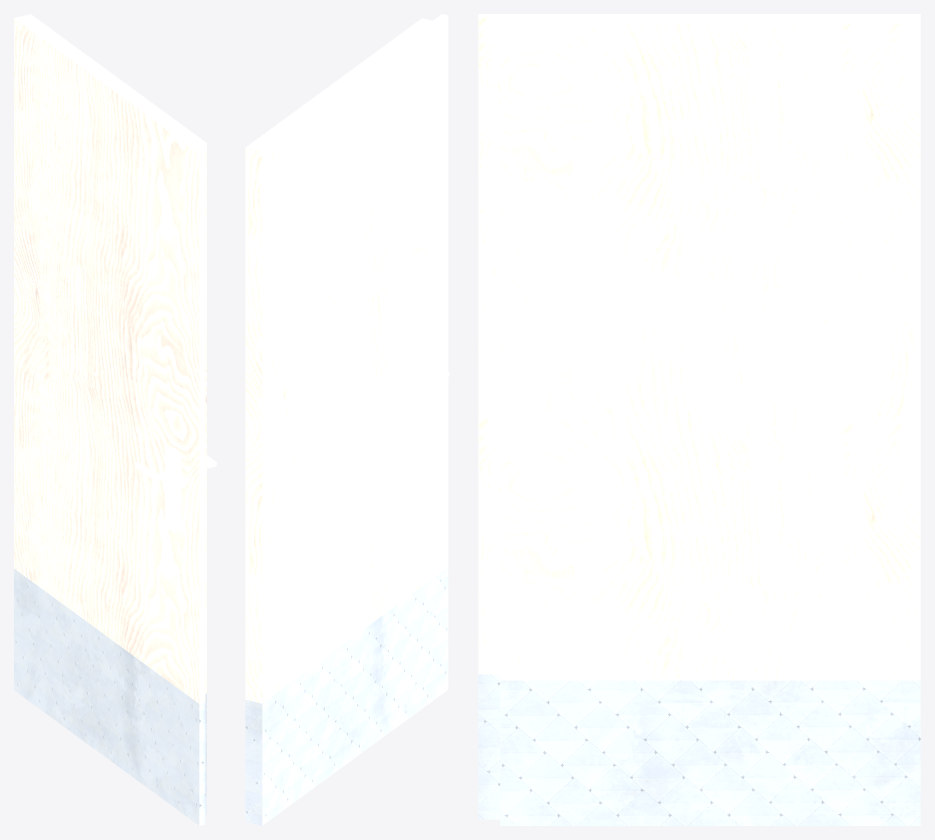
File: SM_Door.fbx
The picture shows the model from 3 angles, left to right: view 1: azimuth 30°, elevation 25°; view 2: azimuth 150°, elevation 25°; view 3: azimuth 270°, elevation 25°; orthographic projection. The views are drawn at different scales.
Visible parts, largest first — view 1: SM_Door_LOD0; view 2: SM_Door_LOD0; view 3: SM_Door_LOD0.
Part boxes in pixels (bbox=[...]): SM_Door_LOD0: bbox=[14, 14, 216, 825]; SM_Door_LOD0: bbox=[245, 14, 449, 825]; SM_Door_LOD0: bbox=[478, 14, 920, 825].
Size of the model in its own units: 23.92 by 120 by 240.
